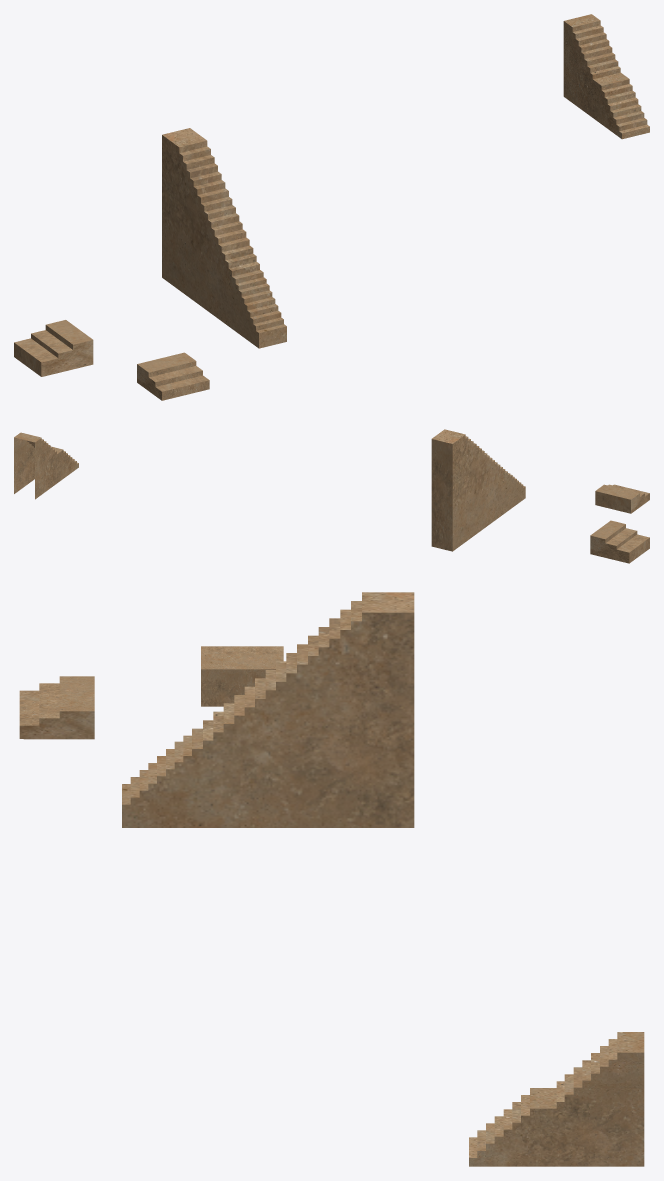
The model's file is stairs.fbx.
3 views of the same model, one above another, from view 1: azimuth 30°, elevation 25°; view 2: azimuth 150°, elevation 25°; view 3: azimuth 270°, elevation 25° (orthographic). The views are drawn at different scales.
Visible parts, largest first — view 1: Cube.002, Cube.007, Cube.003; view 2: Cube.002, Cube.003, Cube.007; view 3: Cube.002, Cube.007, Cube.003.
Boxes of the visible parts, x1,y1,x2,y2 form: Cube.002: [162, 128, 286, 348]; Cube.007: [563, 14, 649, 139]; Cube.003: [14, 320, 209, 400]; Cube.002: [431, 429, 525, 551]; Cube.003: [590, 484, 649, 563]; Cube.007: [14, 432, 78, 499]; Cube.002: [122, 592, 414, 827]; Cube.007: [469, 1032, 644, 1166]; Cube.003: [19, 646, 283, 739].
Bounding box in the file's own units: 3737 × 737 × 1924.
